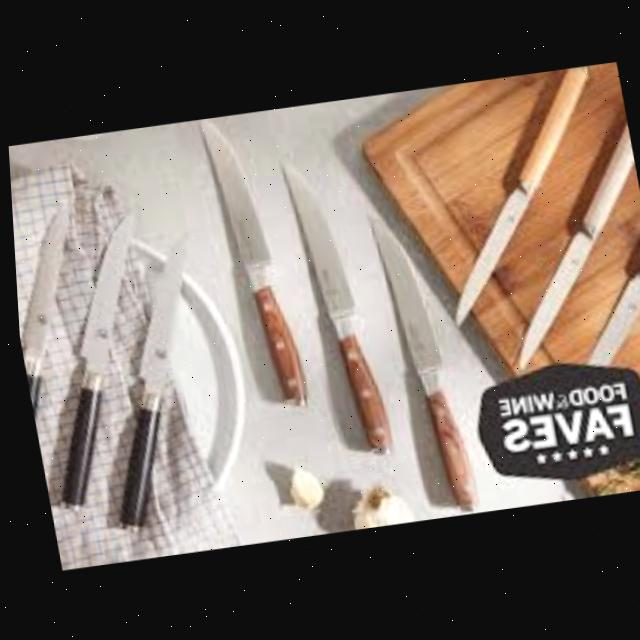Knife: (412, 67, 630, 329), (65, 228, 235, 532), (10, 209, 181, 509), (470, 103, 640, 374), (360, 191, 476, 519), (277, 146, 391, 462), (195, 112, 305, 413), (9, 198, 115, 476), (556, 195, 640, 370)
